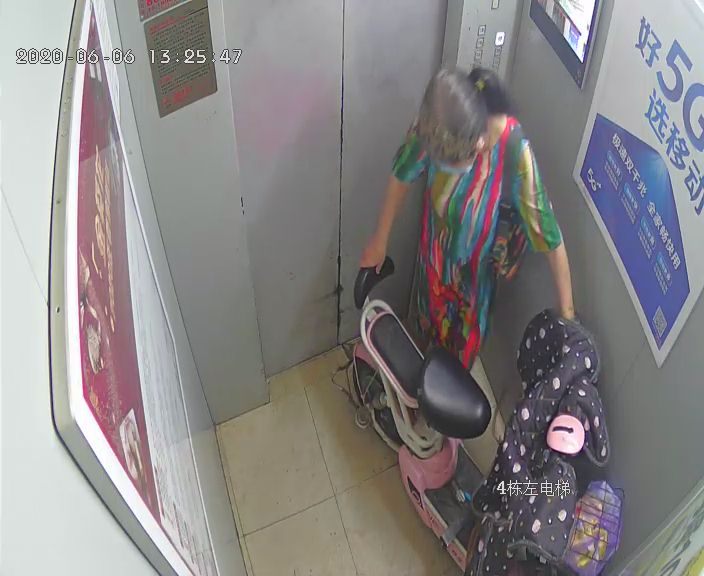Electric-bicycle: (339, 256, 622, 575)
